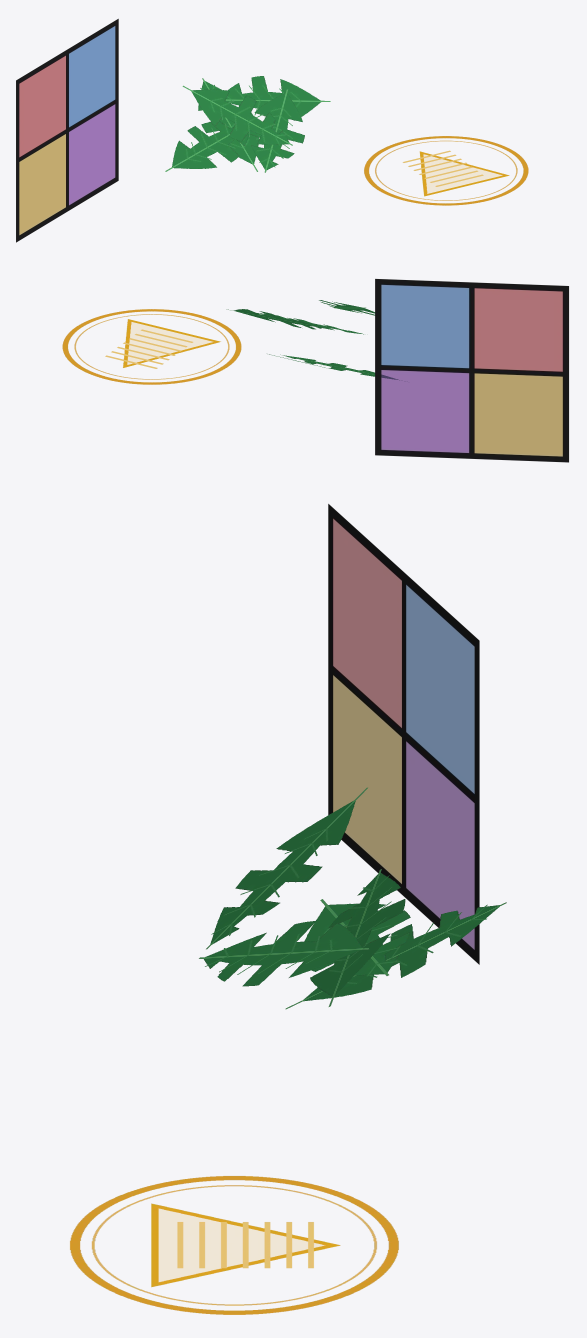
The model's file is foliage_lab.glb.
The picture shows the model from 3 angles, top to bottom: view 1: azimuth 30°, elevation 25°; view 2: azimuth 150°, elevation 25°; view 3: azimuth 270°, elevation 25°; orthographic projection. The views are drawn at different scales.
Visible parts, largest first — view 1: Stained_Glass, Botanical_Foliage, Floor_Decal; view 2: Stained_Glass, Floor_Decal, Botanical_Foliage; view 3: Stained_Glass, Botanical_Foliage, Floor_Decal.
Boxes of the visible parts, <box> form: Stained_Glass: <box>16,18,118,242</box>; Botanical_Foliage: <box>165,76,330,172</box>; Floor_Decal: <box>364,136,528,205</box>; Stained_Glass: <box>375,279,568,462</box>; Floor_Decal: <box>62,309,241,384</box>; Botanical_Foliage: <box>226,300,397,379</box>; Stained_Glass: <box>328,504,479,964</box>; Botanical_Foliage: <box>199,787,506,1009</box>; Floor_Decal: <box>70,1176,398,1314</box>.
Size of what is drawn, in the model's own units: 6.7 by 2.3 by 2.89.
3 materials, 3 textured.
